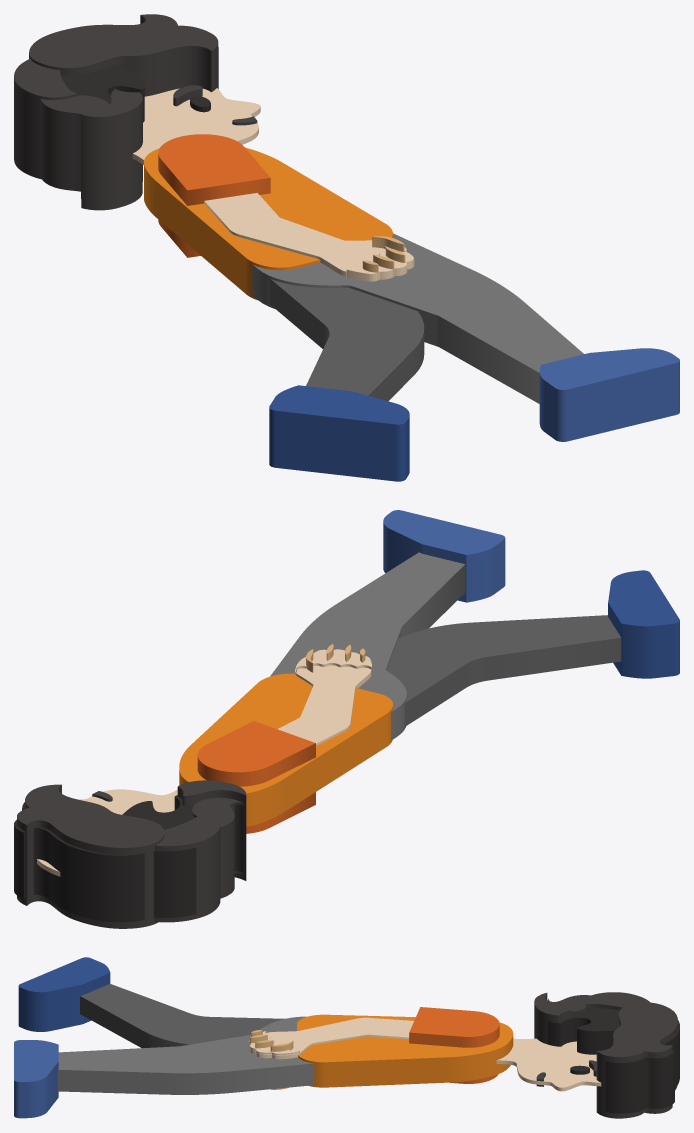
Rendered from emoji_u1f6b6_1f3fb_200d_27a1.glb.
3 renders of one model, top to bottom at view 1: azimuth 30°, elevation 25°; view 2: azimuth 150°, elevation 25°; view 3: azimuth 270°, elevation 25°, orthographic. The views are drawn at different scales.
Visible parts, largest first — view 1: emoji_u1f6b6_1f3fb_200d_27a1; view 2: emoji_u1f6b6_1f3fb_200d_27a1; view 3: emoji_u1f6b6_1f3fb_200d_27a1.
Part boxes in pixels (x1,y1,x2,y2): emoji_u1f6b6_1f3fb_200d_27a1: [14, 14, 679, 481]; emoji_u1f6b6_1f3fb_200d_27a1: [14, 510, 679, 928]; emoji_u1f6b6_1f3fb_200d_27a1: [14, 957, 679, 1118].
Size of the model in its own units: 0.0145 by 0.0036 by 0.0333.
